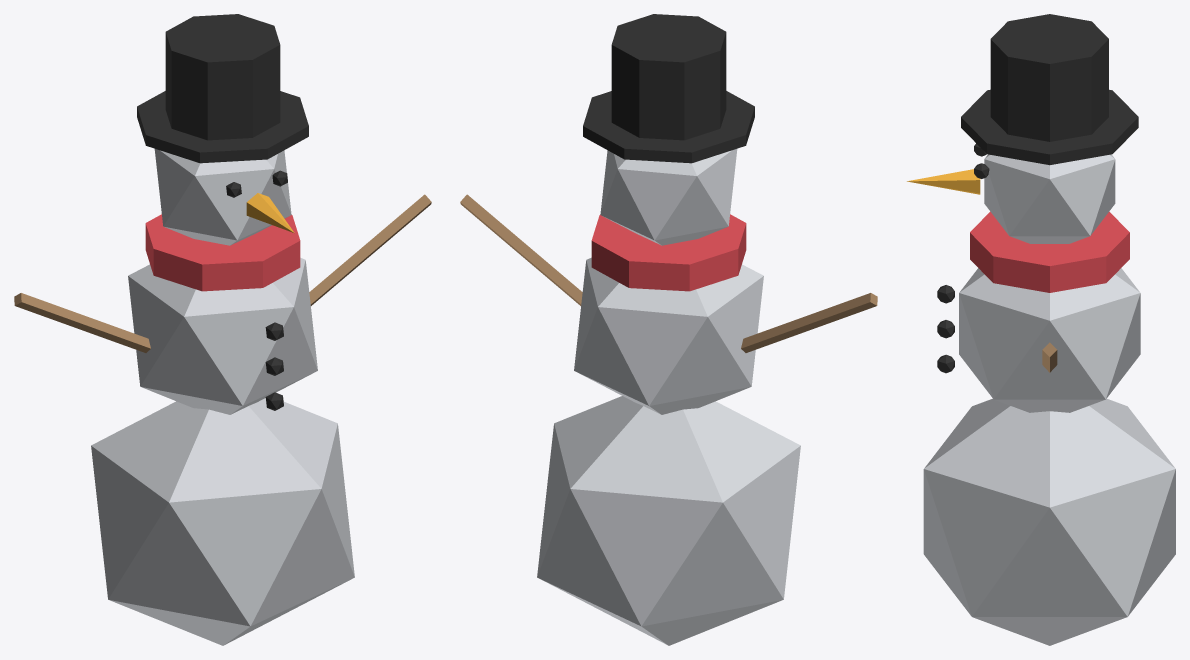
The model's file is MunecoNieve.fbx.
The picture shows the model from 3 angles, left to right: view 1: azimuth 30°, elevation 25°; view 2: azimuth 150°, elevation 25°; view 3: azimuth 270°, elevation 25°; orthographic projection.
Parts seen in each view (by area): view 1: Base, Torso, CopaSombrero, Cabeza, Bufanda, AlaSombrero, BrazoI, BrazoD, Nariz; view 2: Base, Torso, CopaSombrero, Cabeza, Bufanda, AlaSombrero, BrazoI, BrazoD; view 3: Base, Torso, CopaSombrero, Cabeza, Bufanda, AlaSombrero, Nariz.
Part boxes in pixels (left/top/right/bottom): Base: left=91, top=398, right=354, bottom=645; Torso: left=128, top=257, right=317, bottom=414; CopaSombrero: left=165, top=14, right=280, bottom=140; Cabeza: left=154, top=149, right=291, bottom=245; Bufanda: left=145, top=214, right=300, bottom=291; AlaSombrero: left=137, top=91, right=308, bottom=163; BrazoI: left=14, top=293, right=150, bottom=352; BrazoD: left=309, top=194, right=431, bottom=305; Nariz: left=246, top=193, right=294, bottom=232; Base: left=537, top=396, right=800, bottom=645; Torso: left=574, top=257, right=763, bottom=414; CopaSombrero: left=611, top=14, right=726, bottom=140; Cabeza: left=600, top=149, right=737, bottom=245; Bufanda: left=591, top=214, right=746, bottom=291; AlaSombrero: left=583, top=91, right=754, bottom=163; BrazoI: left=741, top=293, right=877, bottom=352; BrazoD: left=460, top=194, right=582, bottom=305; Base: left=923, top=398, right=1175, bottom=645; Torso: left=959, top=268, right=1140, bottom=412; CopaSombrero: left=990, top=14, right=1108, bottom=141; Cabeza: left=984, top=154, right=1115, bottom=243; Bufanda: left=970, top=211, right=1129, bottom=292; AlaSombrero: left=961, top=89, right=1138, bottom=165; Nariz: left=907, top=169, right=980, bottom=194.
Size of the model in its own units: 1.62 by 2.26 by 0.9103.
